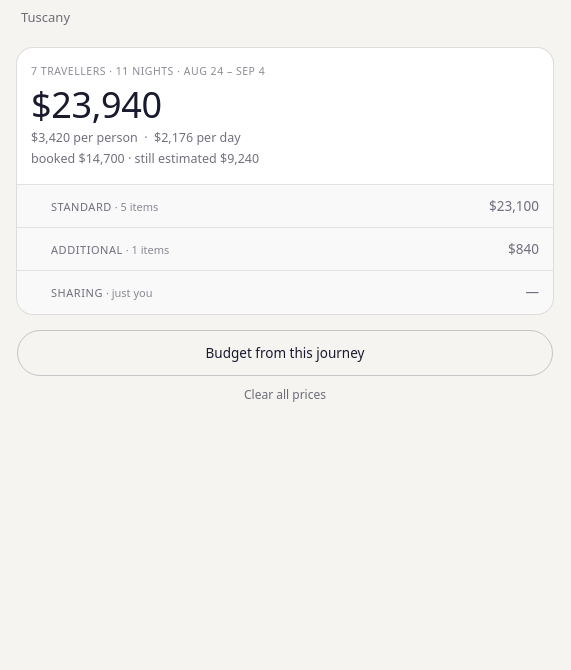
Scenario: Budget uses real numbers (6 Oct 2026) › the villa paid in euros is the Accommodation line, marked Booked, with nothing to type
Expected: the text with test id "estimate-booked" reads "booked $14,700 · still estimated $9,240", [31, 150, 259, 167]
Click the text "Standard" at (81, 206), box [51, 199, 158, 214]
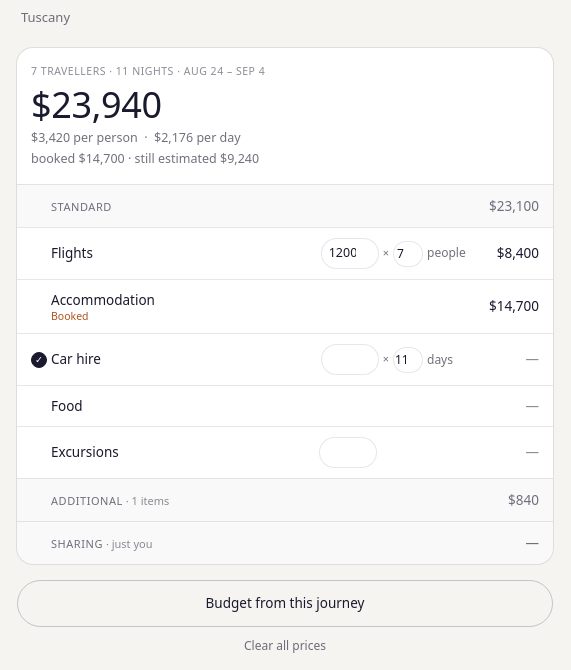
Expected: the text "Booked" is shown, [51, 309, 88, 323]
Expected: the number field named "Flights unit cost" is shown, [321, 238, 379, 269]
